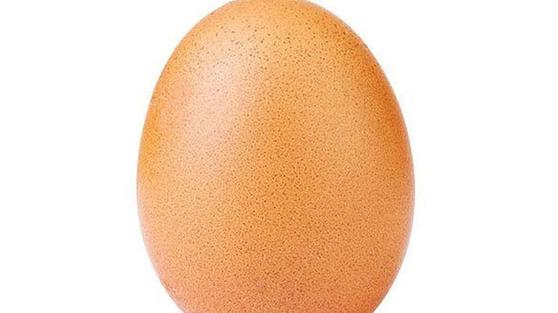egg: (135, 1, 418, 313)
